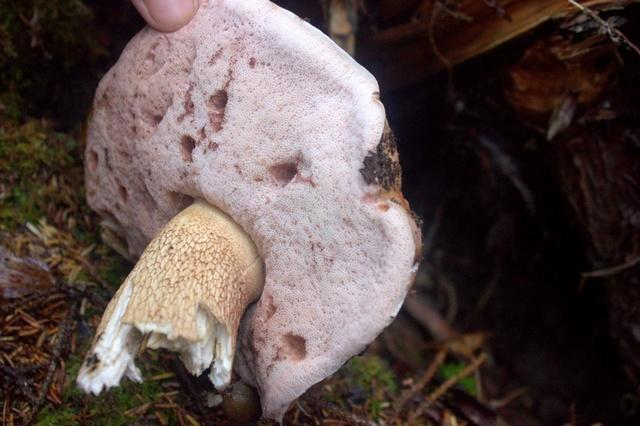Non-edible Mushroom: (74, 0, 425, 422)
